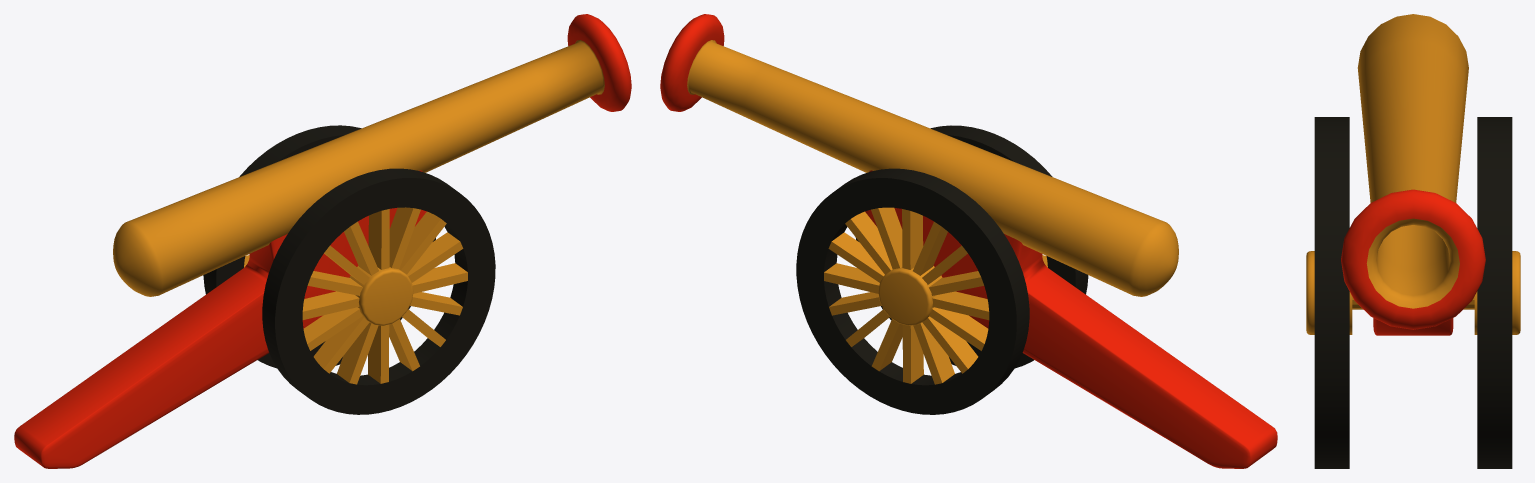
The picture shows the model from 3 angles, left to right: view 1: azimuth 30°, elevation 25°; view 2: azimuth 150°, elevation 25°; view 3: azimuth 270°, elevation 25°; orthographic projection. The views are drawn at different scales.
Visible parts, largest first — view 1: Line020, Tube032, Box019, Group096, Group095, Tube033, Cylinder068; view 2: Line020, Tube033, Box019, Group097, Group095, Tube032, Cylinder069; view 3: Line020, Tube033, Tube032, Group095, Cylinder069, Cylinder068, Box019.
Boxes of the visible parts, x1,y1,x2,y2 form: Line020: (113, 40, 604, 296); Tube032: (262, 168, 495, 414); Box019: (14, 170, 426, 468); Group096: (302, 207, 467, 384); Group095: (567, 14, 631, 111); Tube033: (203, 125, 435, 368); Cylinder068: (349, 266, 413, 325); Line020: (687, 40, 1178, 296); Tube033: (796, 168, 1029, 414); Box019: (865, 170, 1277, 468); Group097: (824, 207, 989, 384); Group095: (660, 14, 724, 111); Tube032: (855, 125, 1088, 368); Cylinder069: (878, 266, 942, 325); Line020: (1357, 14, 1468, 308); Tube033: (1477, 117, 1512, 468); Tube032: (1314, 117, 1349, 468); Group095: (1341, 189, 1485, 329); Cylinder069: (1463, 251, 1520, 334); Cylinder068: (1306, 251, 1362, 334); Box019: (1373, 318, 1453, 335).
Size of the model in its own units: 63.96 by 32.31 by 14.6.
